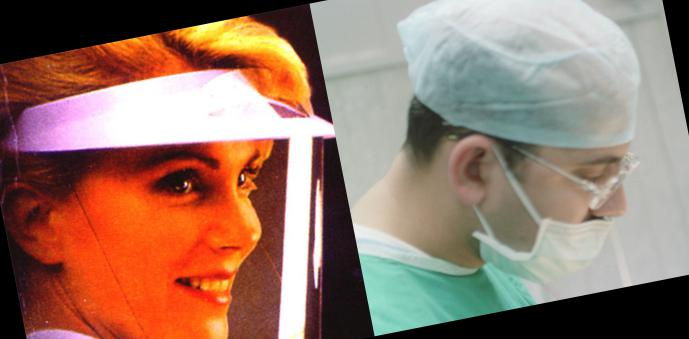mask_weared_incorrect: (493, 123, 663, 288)
without_mask: (100, 131, 306, 339)
